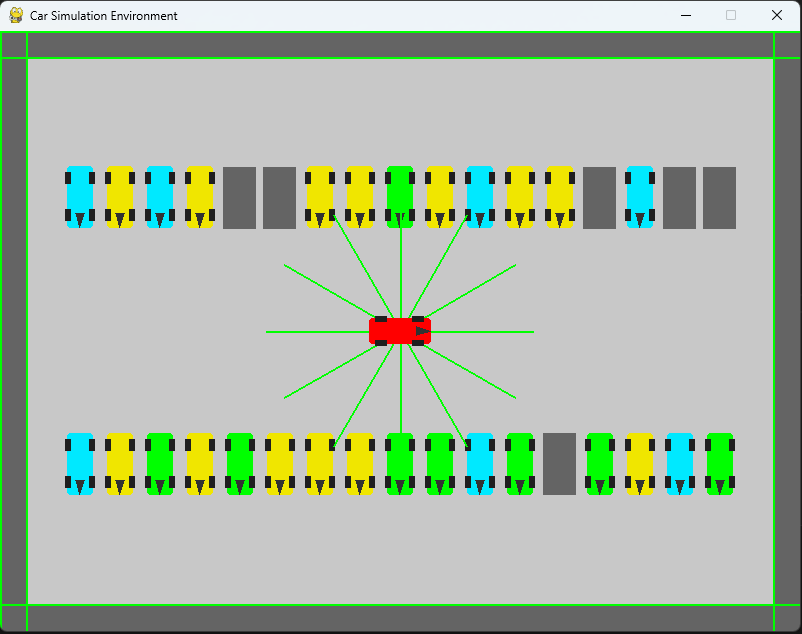ControlledCar: (362, 309, 434, 348)
ParkedCar: (56, 158, 100, 228), (539, 158, 580, 231), (58, 426, 98, 497), (702, 429, 744, 496), (619, 159, 658, 231), (259, 430, 297, 502), (621, 426, 658, 499), (380, 431, 419, 499), (342, 426, 378, 499), (503, 427, 539, 500), (141, 429, 179, 498), (182, 160, 217, 233), (457, 163, 496, 228), (421, 430, 457, 500), (144, 161, 180, 230), (342, 163, 377, 233), (222, 427, 256, 499), (304, 429, 338, 501), (462, 431, 498, 499), (100, 163, 138, 227), (102, 431, 137, 500), (301, 161, 335, 231), (422, 165, 457, 233), (183, 430, 217, 500), (661, 431, 695, 500), (503, 162, 535, 233), (384, 159, 416, 229), (583, 429, 615, 497)
ParkingSpot: (702, 161, 743, 234), (659, 159, 699, 232), (540, 430, 581, 499), (221, 157, 258, 231), (262, 160, 296, 235), (583, 161, 616, 230)
